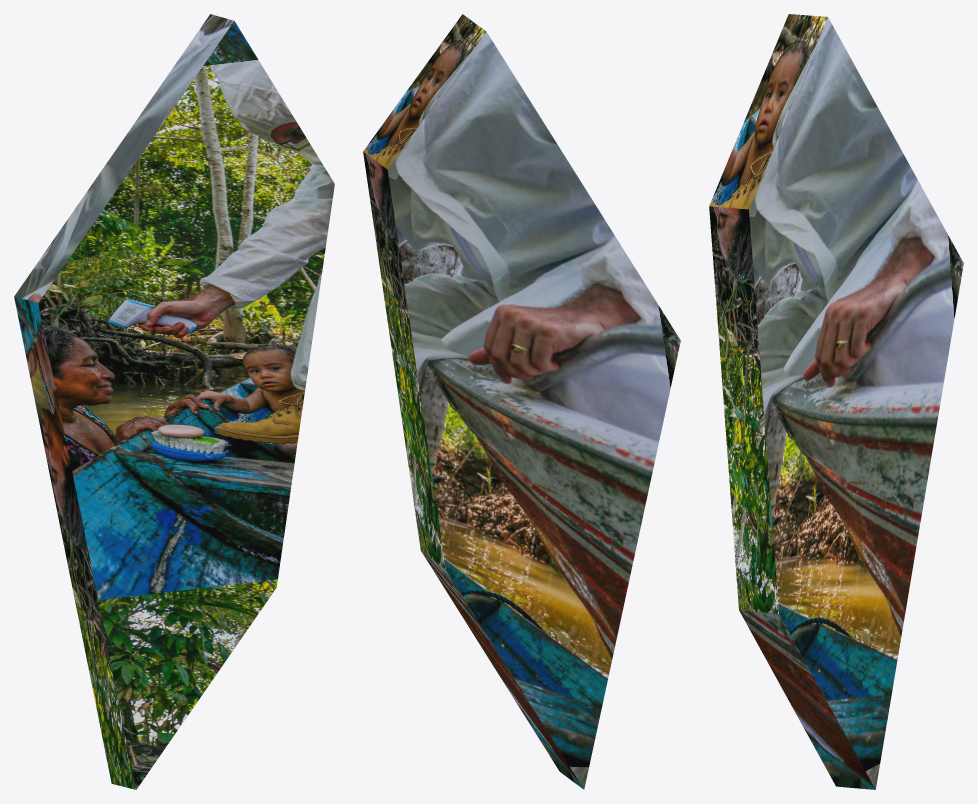
File: afp1.gltf
3 renders of one model, left to right at view 1: azimuth 30°, elevation 25°; view 2: azimuth 210°, elevation 25°; view 3: azimuth 270°, elevation 25°, orthographic. The views are drawn at different scales.
Parts seen in each view (by area): view 1: afp1; view 2: afp1; view 3: afp1.
Boxes of the visible parts, x1=… form: afp1: x1=14, y1=14, x2=334, y2=789; afp1: x1=363, y1=14, x2=680, y2=789; afp1: x1=709, y1=14, x2=963, y2=789.
Size of the model in its own units: 11.4 by 42.03 by 11.86.
Materials: 1 (1 with a texture image).
